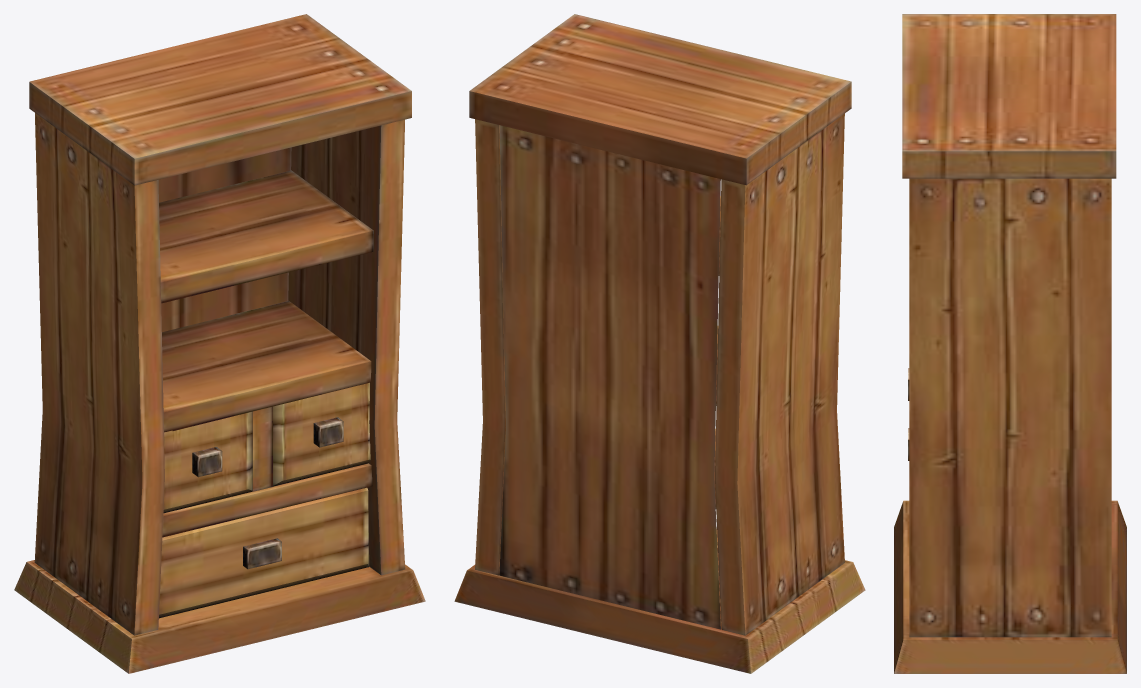
The model's file is SM_cupboard_02.gltf.
3 renders of one model, left to right at view 1: azimuth 30°, elevation 25°; view 2: azimuth 150°, elevation 25°; view 3: azimuth 270°, elevation 25°, orthographic.
Parts seen in each view (by area): view 1: SM_cupboard_02; view 2: SM_cupboard_02; view 3: SM_cupboard_02.
Boxes of the visible parts, <box> form: SM_cupboard_02: <box>14,14,425,673</box>; SM_cupboard_02: <box>454,14,865,673</box>; SM_cupboard_02: <box>894,14,1126,673</box>.
Bounding box in the file's own units: 0.9993 × 1.64 × 0.6677.
1 material, 1 textured.
